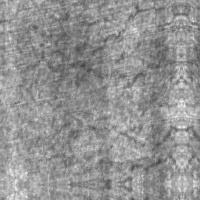crazing: (77, 4, 162, 91), (49, 121, 181, 172)
